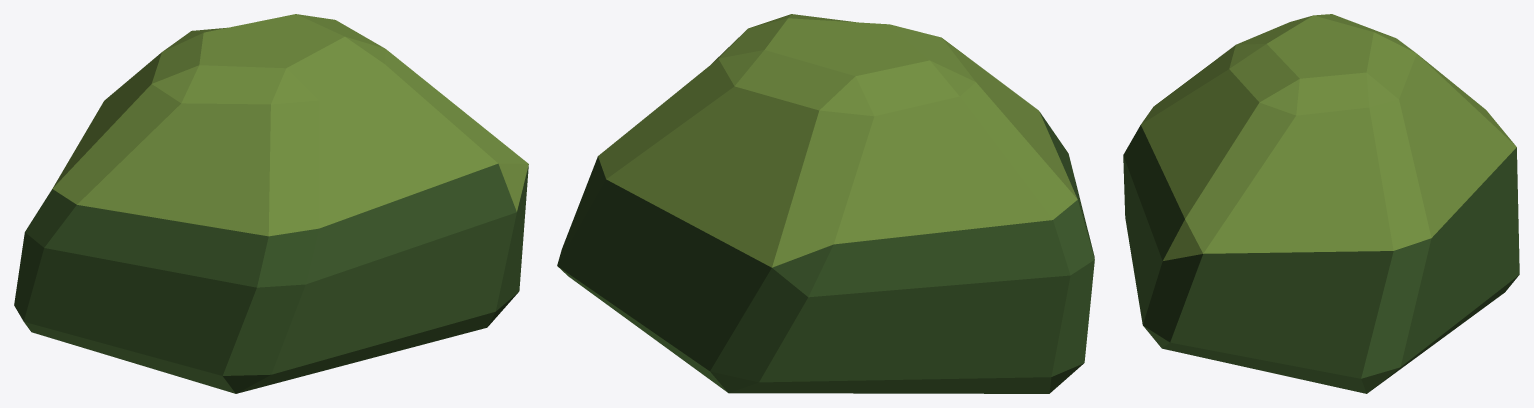
File: gf_stone_small_c.glb
3 views of the same model, side by side, from view 1: azimuth 30°, elevation 25°; view 2: azimuth 150°, elevation 25°; view 3: azimuth 270°, elevation 25° (orthographic). The views are drawn at different scales.
Visible parts, largest first — view 1: gf_stone_small_c; view 2: gf_stone_small_c; view 3: gf_stone_small_c.
Part boxes in pixels (x1,y1,x2,y2): gf_stone_small_c: [14, 14, 528, 393]; gf_stone_small_c: [557, 14, 1094, 393]; gf_stone_small_c: [1123, 14, 1519, 393].
Size of the model in its own units: 0.1605 by 0.082 by 0.1236.
